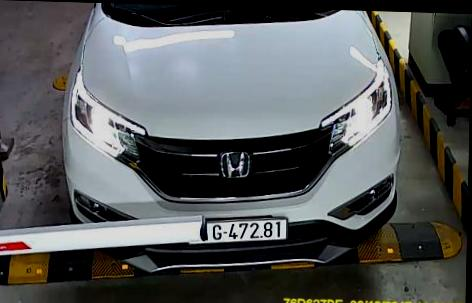License_Plate: (187, 216, 288, 247)
